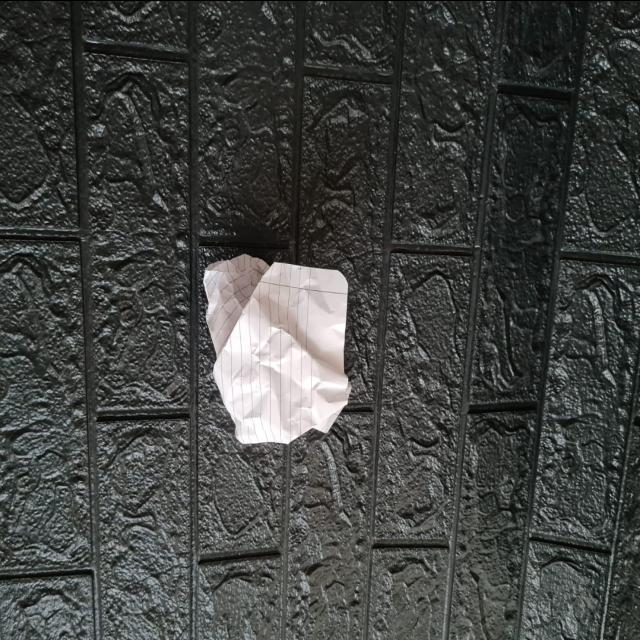kertas: (202, 247, 352, 448)
